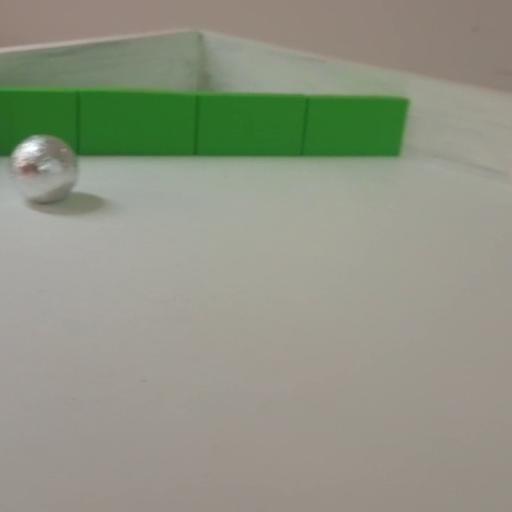alive: (10, 135, 78, 203)
